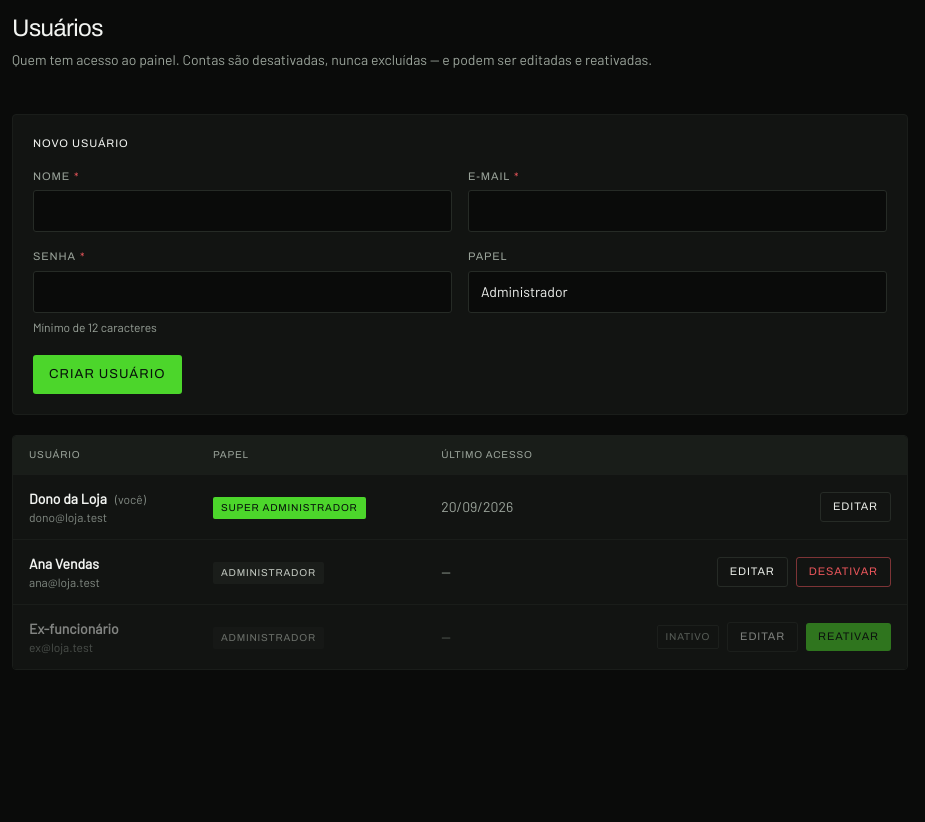
Test: usuários › na própria conta, o papel fica travado e não há opção de desativar
Expected: the text "Dono da Loja" is shown, [29,490,107,507]
Click the button "Editar" in the row of "Dono da Loja".
click(856, 507)  # box [820,492,891,522]
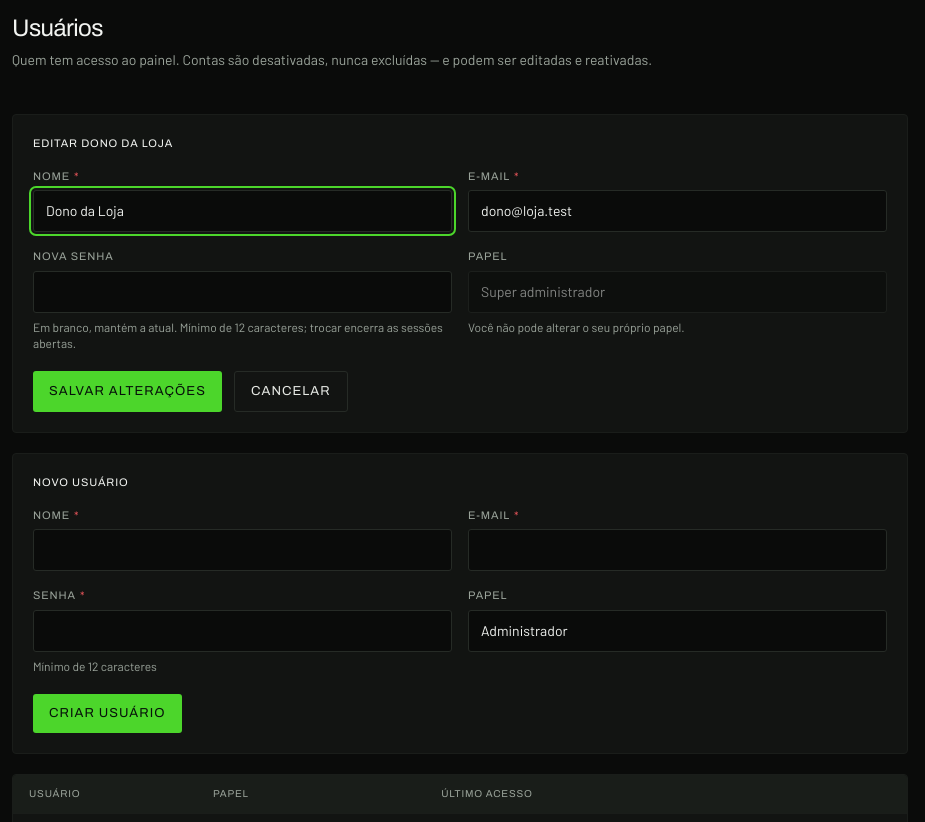
Now the 1st dropdown labelled "Papel" is disabled, box [468,270,887,312]
